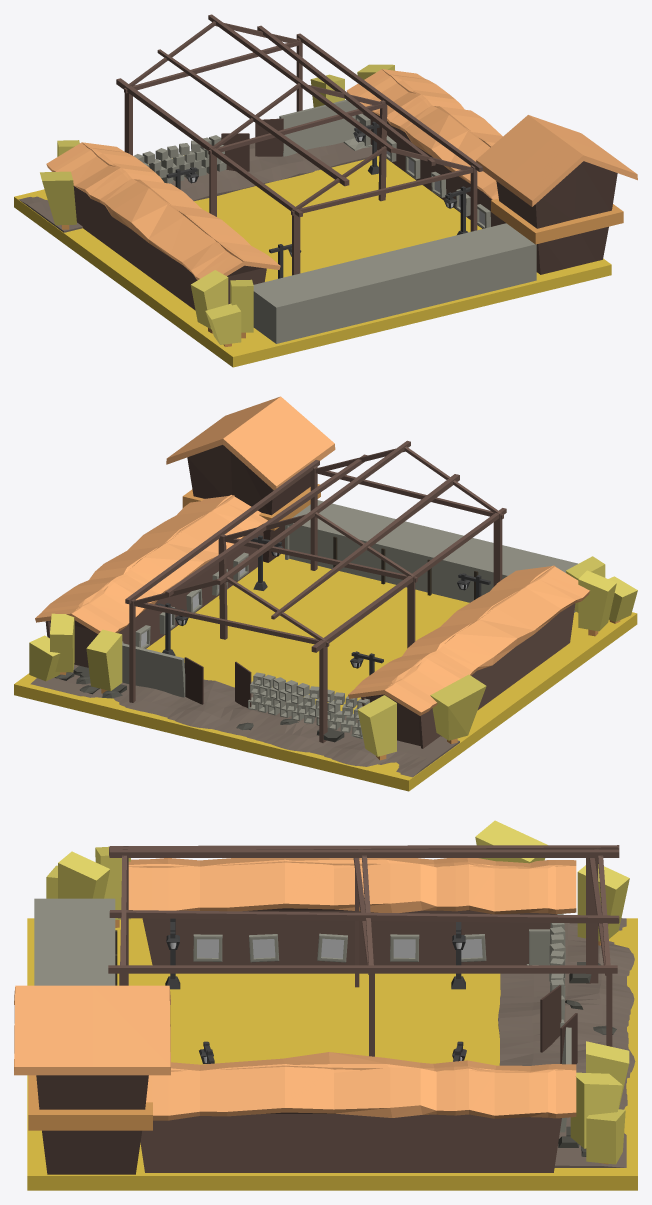
3 views of the same model, one above another, from view 1: azimuth 30°, elevation 25°; view 2: azimuth 150°, elevation 25°; view 3: azimuth 270°, elevation 25° (orthographic). The views are drawn at different scales.
Visible parts, largest first — view 1: Cube, Cube.002, Cube.031, Cube.041, Cube.088, Cube.029, Cube.032, Cube.027, Cube.030, Cube.050, Cube.042, Cube.001 (+20 smaller); view 2: Cube, Cube.002, Cube.027, Cube.031, Cube.041, Cube.029, Cube.032, Cube.030, Cube.088, Cube.001, Cube.025, Cube.059 (+25 smaller); view 3: Cube, Cube.025, Cube.030, Cube.001, Cube.041, Cube.032, Cube.027, Cube.088, Cube.002, Cube.005, Cube.003, Cube.004 (+19 smaller).
Boxes of the visible parts, bbox=[...] form: Cube: bbox=[14, 155, 611, 367]; Cube.002: bbox=[253, 223, 536, 343]; Cube.031: bbox=[46, 142, 245, 280]; Cube.041: bbox=[476, 115, 637, 206]; Cube.088: bbox=[496, 161, 617, 274]; Cube.029: bbox=[346, 69, 498, 199]; Cube.032: bbox=[73, 186, 266, 310]; Cube.027: bbox=[18, 142, 379, 232]; Cube.030: bbox=[82, 142, 280, 269]; Cube.050: bbox=[279, 99, 357, 156]; Cube.042: bbox=[491, 198, 623, 244]; Cube.001: bbox=[382, 69, 502, 147]; Cube: bbox=[14, 554, 637, 791]; Cube.002: bbox=[285, 500, 577, 612]; Cube.027: bbox=[30, 664, 459, 777]; Cube.031: bbox=[384, 565, 589, 715]; Cube.041: bbox=[166, 396, 335, 489]; Cube.029: bbox=[71, 495, 267, 634]; Cube.032: bbox=[361, 603, 575, 748]; Cube.030: bbox=[348, 565, 554, 698]; Cube.088: bbox=[187, 445, 310, 562]; Cube.001: bbox=[35, 495, 234, 622]; Cube.025: bbox=[45, 532, 263, 667]; Cube.059: bbox=[430, 674, 486, 740]; Cube: bbox=[27, 918, 637, 1190]; Cube.025: bbox=[140, 1112, 561, 1172]; Cube.030: bbox=[128, 859, 576, 914]; Cube.001: bbox=[146, 1064, 576, 1120]; Cube.041: bbox=[14, 985, 170, 1075]; Cube.032: bbox=[142, 908, 557, 965]; Cube.027: bbox=[498, 918, 635, 1167]; Cube.088: bbox=[36, 1075, 148, 1174]; Cube.002: bbox=[34, 898, 115, 985]; Cube.005: bbox=[108, 965, 617, 973]; Cube.003: bbox=[109, 849, 619, 857]; Cube.004: bbox=[109, 910, 619, 923].
Size of the model in its own units: 66.97 by 22.84 by 61.3.
